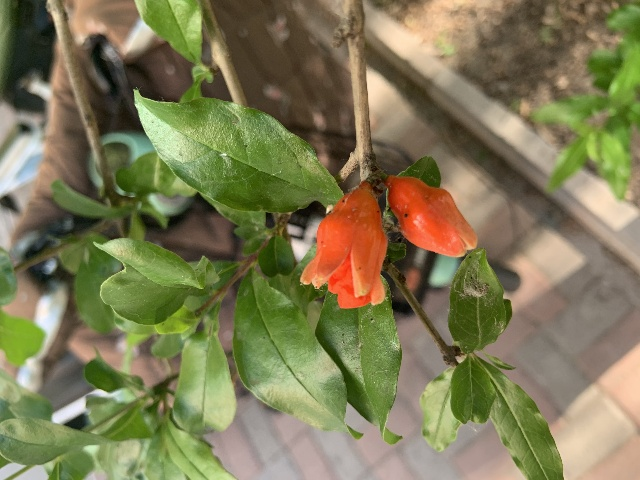bud: (386, 174, 476, 257)
flower: (300, 184, 386, 307)
